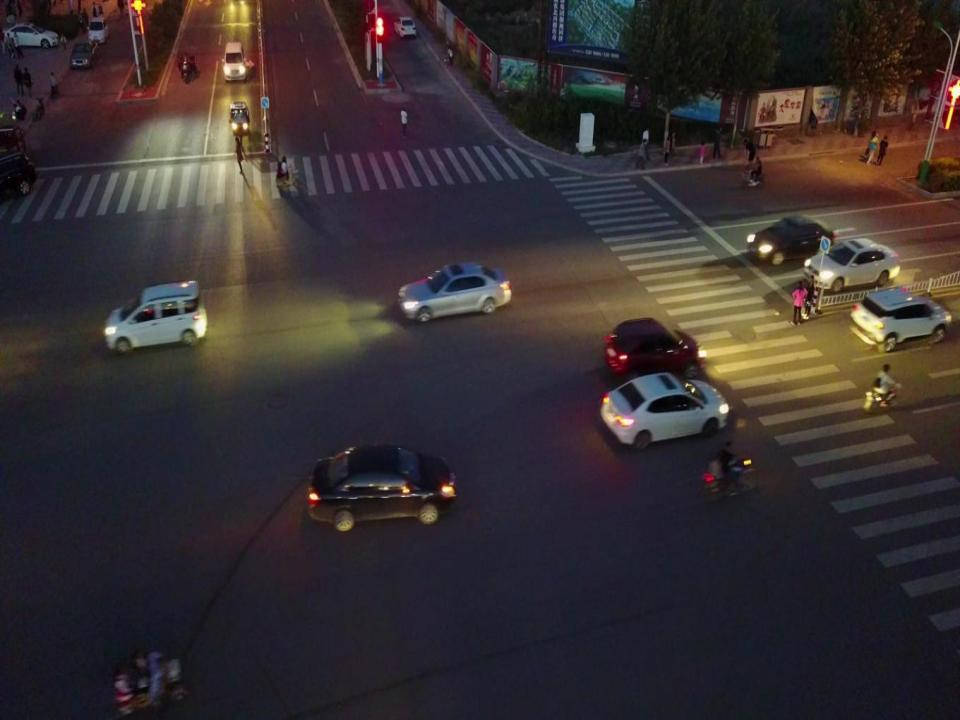car: (306, 443, 458, 533), (595, 370, 731, 450), (102, 280, 209, 353), (398, 260, 512, 326), (846, 289, 952, 347), (602, 317, 706, 376), (804, 237, 902, 288), (746, 215, 836, 268), (0, 152, 38, 200), (3, 21, 59, 47), (223, 39, 246, 81), (70, 38, 97, 68), (0, 124, 28, 152), (228, 100, 248, 136), (87, 16, 109, 42), (393, 15, 416, 37)
